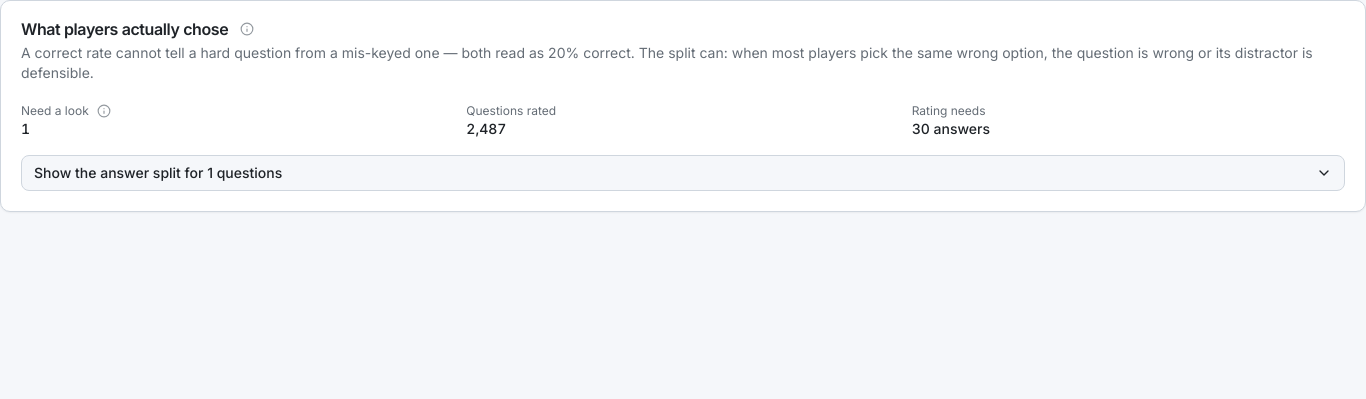
Scenario: questionQuality › reports timeouts beside the row rather than inside the bars
Click the button "Show the answer split for 1 questions" at (158, 172), box [21,155,1345,191]
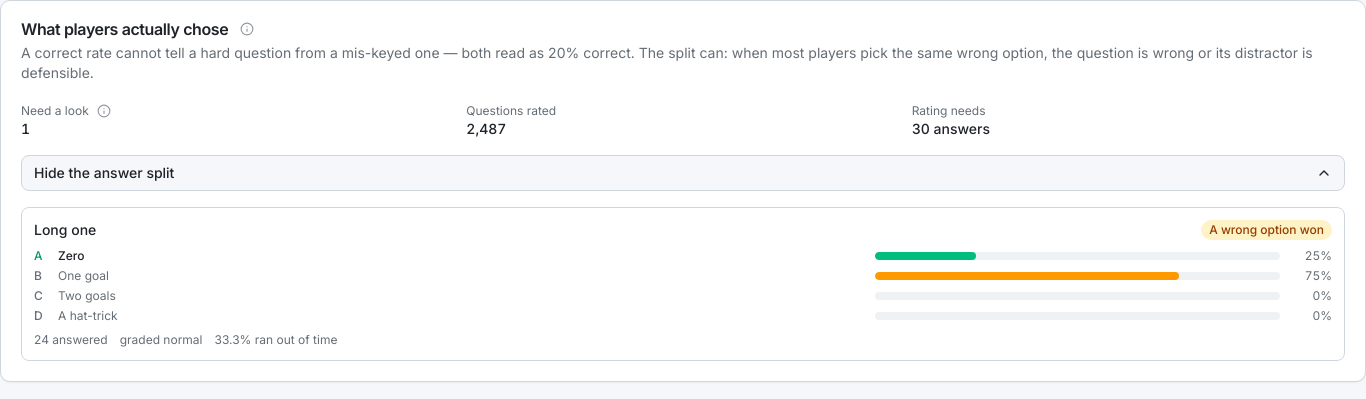
expect the text "33.3% ran out of time" is shown: met, box [214,332,337,348]
